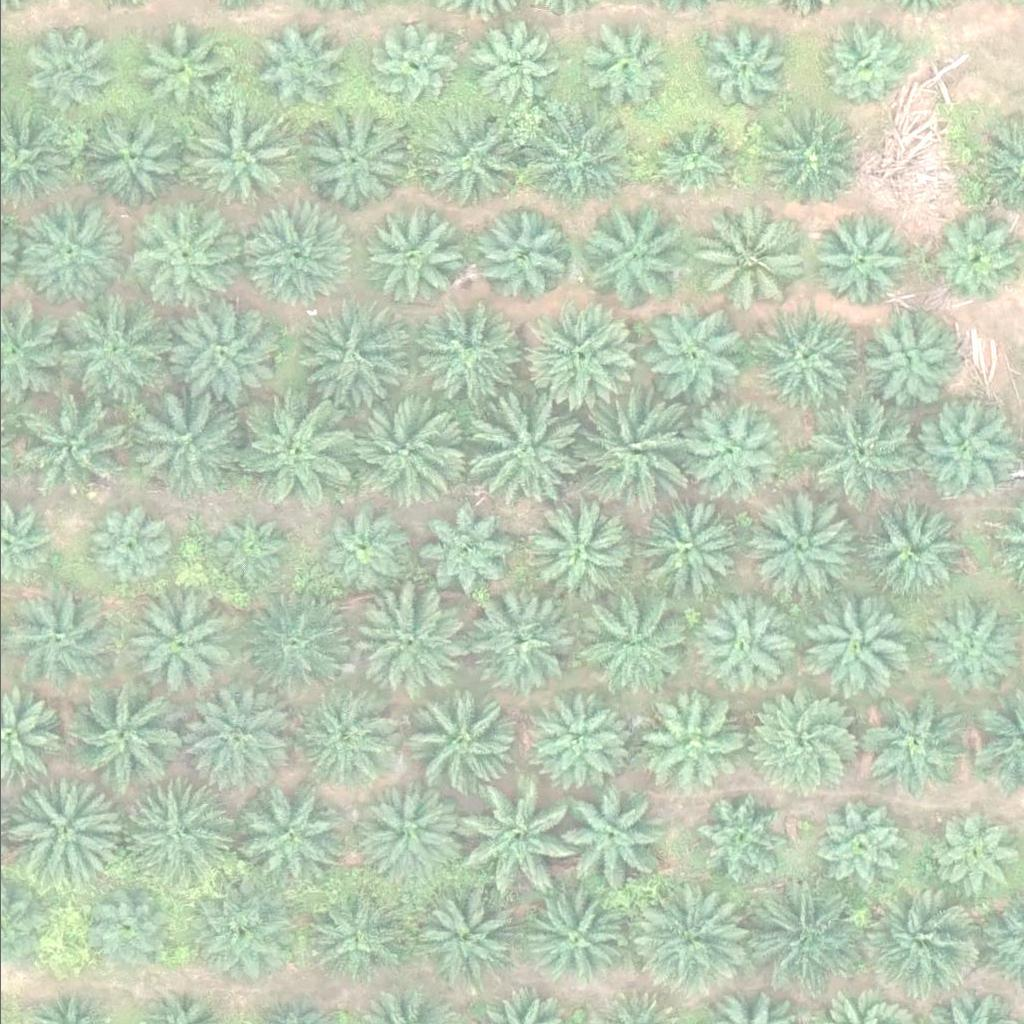Kelapa_Sawit: (455, 582, 569, 695), (298, 300, 412, 413), (350, 775, 463, 888), (233, 779, 346, 892), (117, 772, 230, 885), (403, 685, 516, 798), (573, 390, 686, 503), (344, 399, 457, 512), (163, 293, 276, 406), (409, 300, 522, 413), (572, 197, 685, 310), (237, 199, 350, 312), (175, 105, 288, 218), (417, 103, 530, 216), (517, 104, 630, 217), (752, 680, 865, 793), (795, 587, 908, 700), (751, 298, 864, 411), (512, 880, 626, 992), (238, 394, 352, 506), (868, 881, 982, 993), (750, 878, 864, 990), (628, 879, 741, 991), (403, 884, 516, 996), (454, 777, 567, 889), (4, 779, 117, 891), (72, 680, 185, 792), (181, 676, 294, 788), (574, 589, 687, 701), (342, 590, 455, 702), (240, 589, 353, 701), (121, 590, 234, 702), (521, 495, 634, 607), (461, 396, 574, 508), (129, 385, 242, 497), (19, 390, 132, 502), (55, 291, 168, 403), (525, 299, 638, 411), (8, 198, 121, 310), (746, 493, 859, 605), (801, 397, 914, 509), (688, 207, 801, 319), (184, 879, 285, 979), (288, 691, 389, 791), (525, 697, 626, 797), (411, 502, 512, 602), (466, 202, 567, 302), (362, 210, 463, 310), (125, 206, 226, 306), (81, 102, 182, 202), (298, 113, 399, 213), (693, 787, 794, 887), (643, 686, 744, 786), (694, 595, 795, 695), (860, 497, 961, 597), (632, 492, 733, 592), (677, 401, 778, 501), (856, 308, 957, 408), (642, 301, 743, 401), (808, 213, 909, 313), (299, 889, 399, 989), (555, 780, 655, 880), (813, 800, 913, 900), (862, 691, 962, 791), (755, 107, 855, 207), (575, 16, 663, 104), (463, 20, 551, 108), (137, 25, 225, 113), (17, 30, 105, 118), (930, 812, 1018, 900), (654, 116, 742, 204), (81, 887, 169, 974), (87, 503, 175, 590), (320, 514, 408, 601), (366, 22, 454, 109), (247, 23, 335, 110), (934, 216, 1022, 303), (700, 23, 788, 110), (823, 20, 911, 107), (209, 512, 285, 587)
